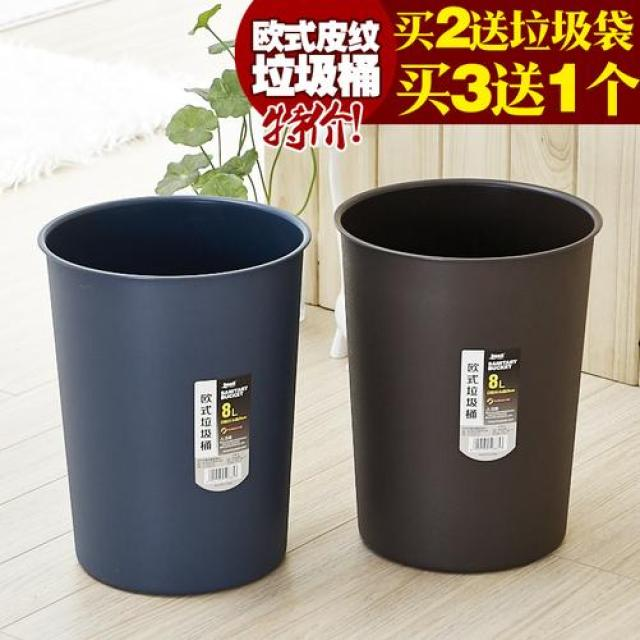dustbin: (35, 190, 316, 601), (330, 173, 604, 577)
